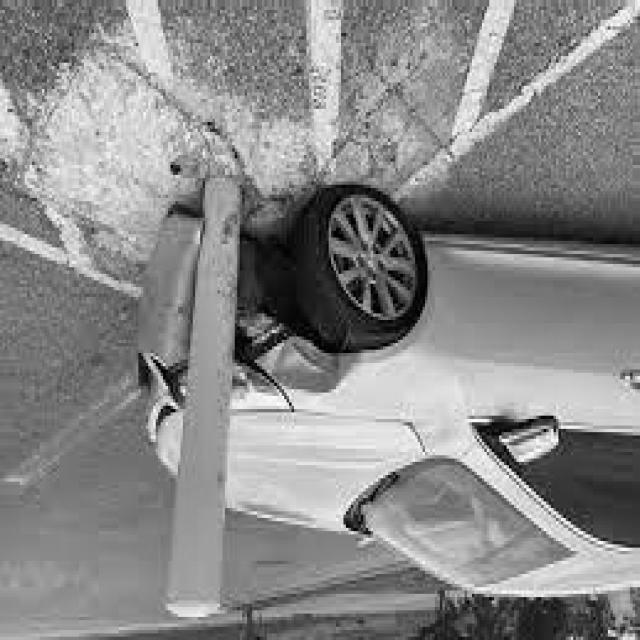vehicle: (123, 62, 640, 574)
